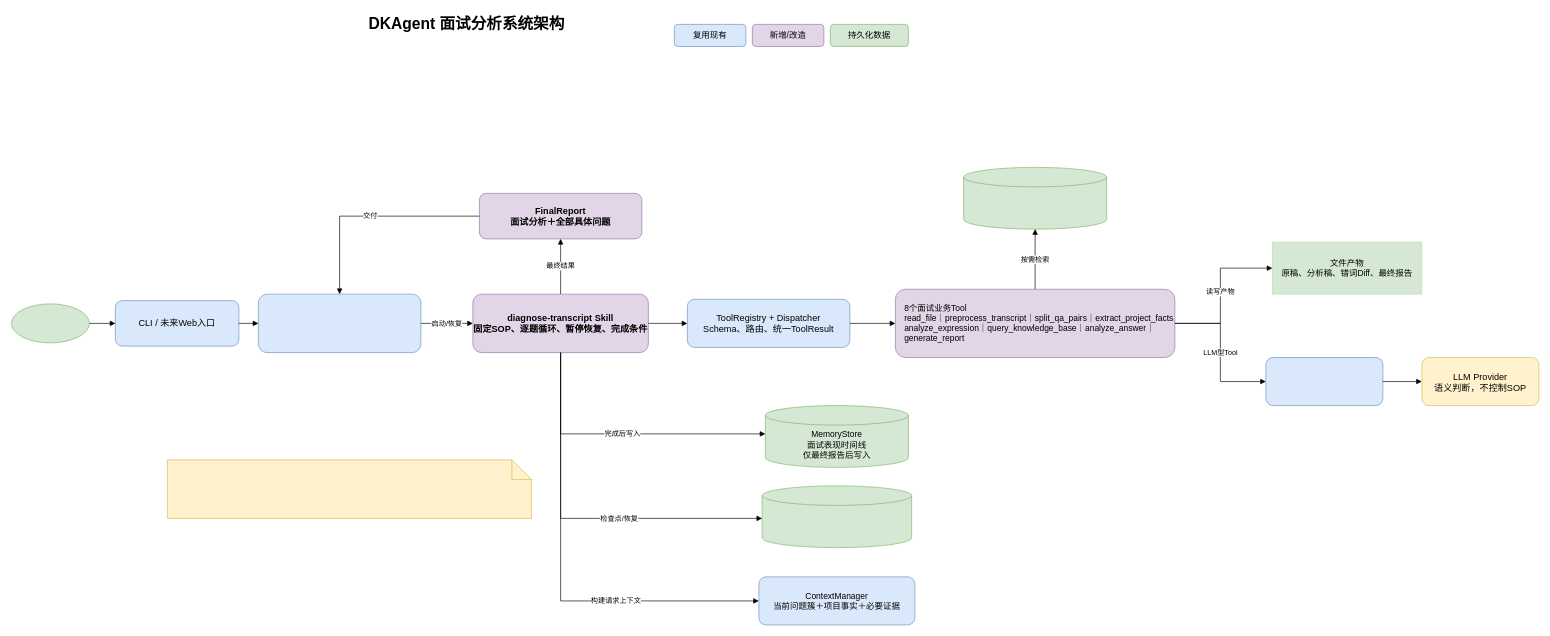
This 1550x636 diagram has some shape labels left out. The shapes that lost their labels are listed below. From the top down, each one's centre as x and y in pixels, then its label:
the point at 1035,198: KnowledgeBase FTS5 / Embedding 按需技术核验
the point at 50,323: 用户
the point at 339,323: AgentLoop 意图、元数据、JD、事实确认、报告追问
the point at 1324,381: QueryEngine 结构化LLM请求
the point at 349,488: 不新增：Workflow Engine、多Agent、第二套模型调用层。 新增范围只包括诊断Skill、8个业务Tool、诊断状态与报告Schema。
the point at 836,516: SessionStore 阶段、进度、中间诊断、等待确认
